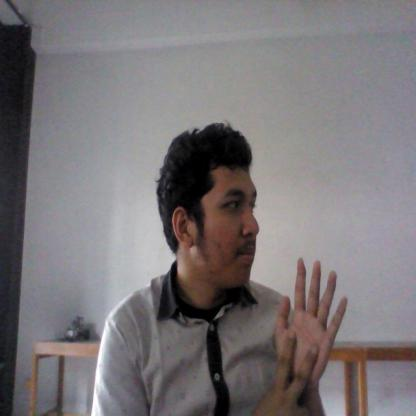N: (262, 249, 353, 415)
